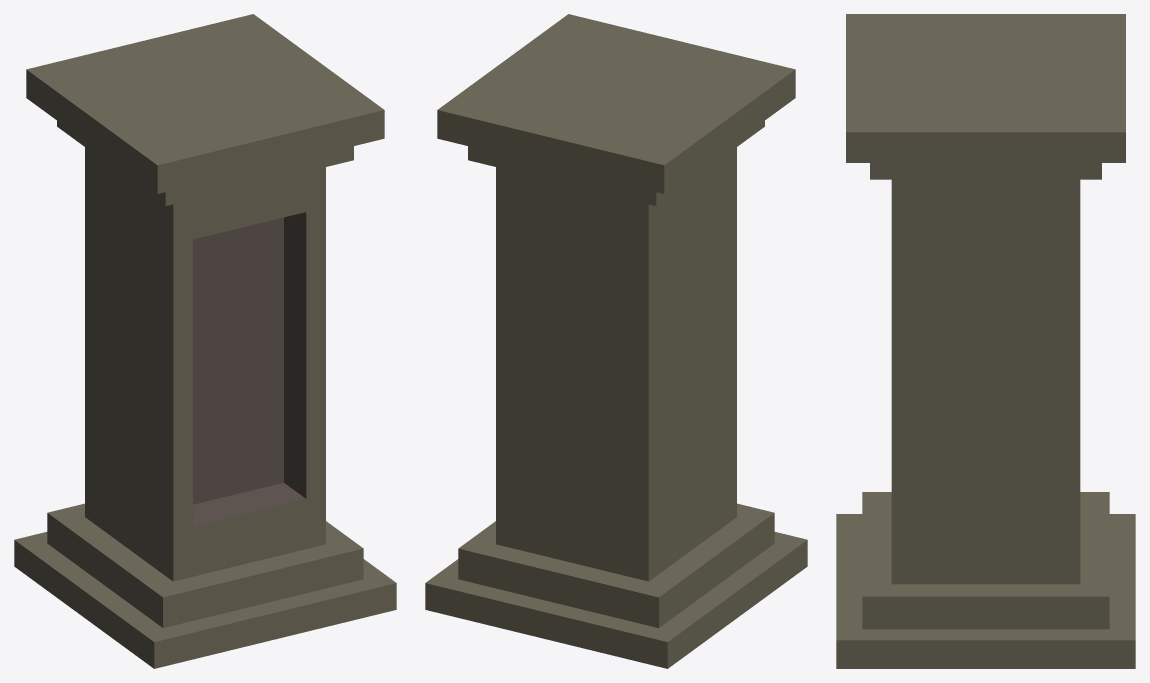
Rendered from PAREDEFIN.fbx.
3 renders of one model, left to right at view 1: azimuth 30°, elevation 25°; view 2: azimuth 150°, elevation 25°; view 3: azimuth 270°, elevation 25°, orthographic. The views are drawn at different scales.
Visible parts, largest first — view 1: Cube.001; view 2: Cube.001; view 3: Cube.001.
Boxes of the visible parts, left/top/right/bottom form: Cube.001: left=14, top=14, right=396, bottom=668; Cube.001: left=425, top=14, right=807, bottom=668; Cube.001: left=836, top=14, right=1135, bottom=668.
Bounding box in the file's own units: 242 × 476 × 242.
